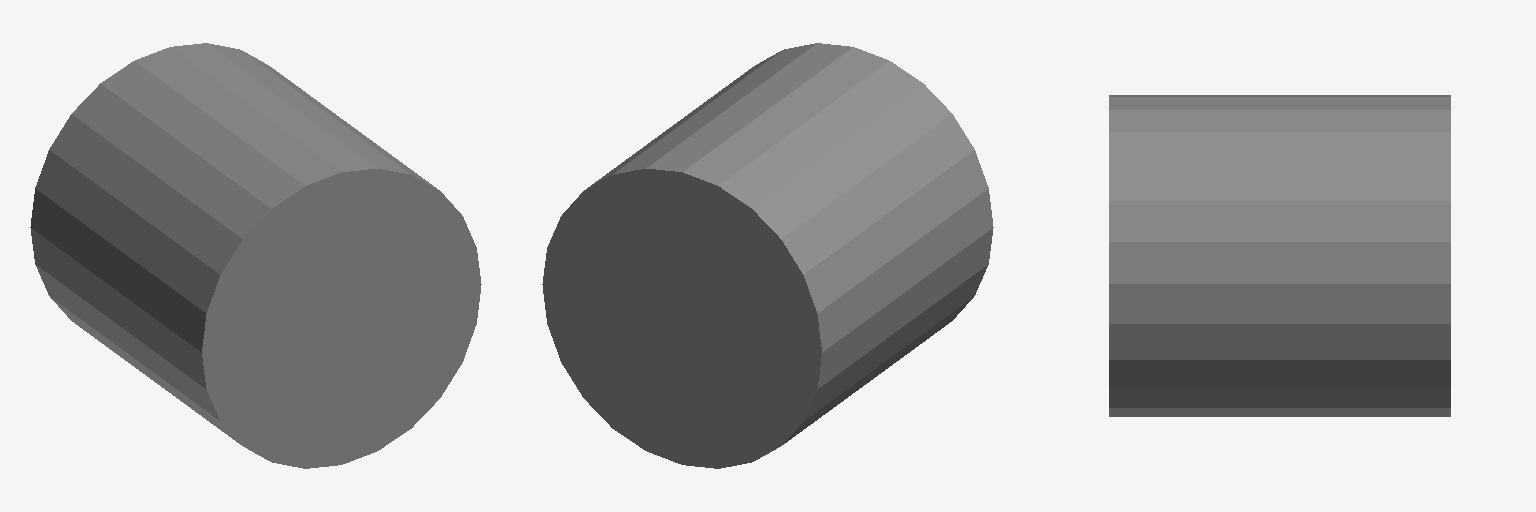
The model's file is mag4.obj.
The picture shows the model from 3 angles: view 1: azimuth 30°, elevation 25°; view 2: azimuth 150°, elevation 25°; view 3: azimuth 270°, elevation 25°; orthographic projection.
Parts seen in each view (by area): view 1: mag4; view 2: mag4; view 3: mag4.
Boxes of the visible parts, x1=… form: mag4: x1=30, y1=43, x2=481, y2=468; mag4: x1=542, y1=43, x2=993, y2=468; mag4: x1=1109, y1=95, x2=1450, y2=416.
Bounding box in the file's own units: 6.15 × 6.15 × 6.53.